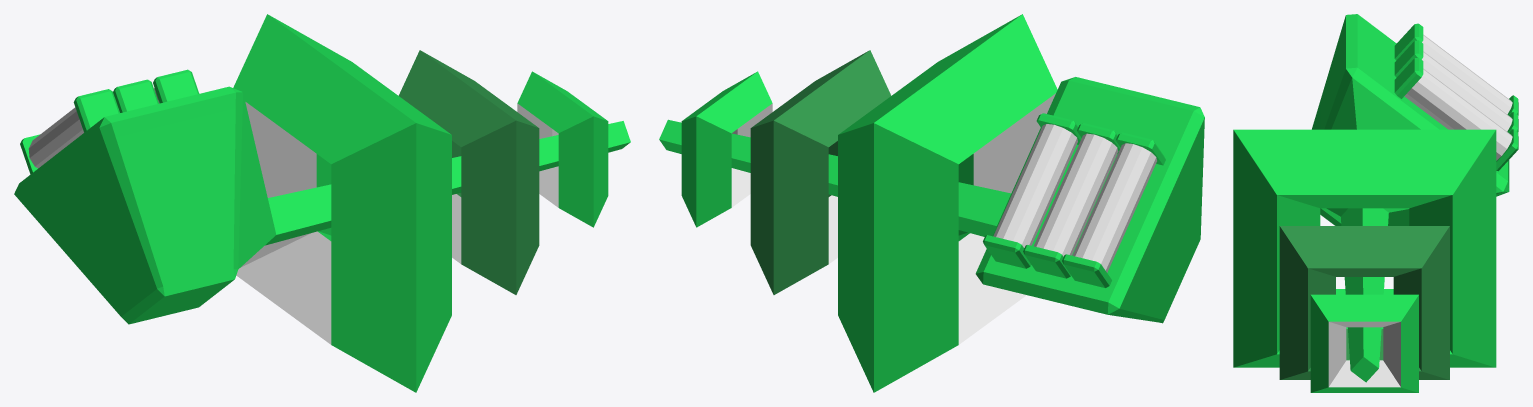
File: LazerGun.fbx
The picture shows the model from 3 angles, left to right: view 1: azimuth 30°, elevation 25°; view 2: azimuth 150°, elevation 25°; view 3: azimuth 270°, elevation 25°; orthographic projection. The views are drawn at different scales.
Parts seen in each view (by area): view 1: Torus.002, Cube, Torus.003, Torus.004; view 2: Torus.002, Cube, Torus.003, Torus.004; view 3: Torus.002, Cube, Torus.003, Torus.004.
Boxes of the visible parts, left/top/right/bottom form: Torus.002: left=233, top=14, right=451, bottom=392; Cube: left=14, top=69, right=630, bottom=324; Torus.003: left=398, top=50, right=539, bottom=294; Torus.004: left=517, top=71, right=608, bottom=227; Torus.002: left=838, top=14, right=1057, bottom=392; Cube: left=659, top=77, right=1204, bottom=323; Torus.003: left=750, top=50, right=891, bottom=294; Torus.004: left=681, top=71, right=772, bottom=227; Torus.002: left=1233, top=129, right=1496, bottom=367; Cube: left=1312, top=14, right=1518, bottom=382; Torus.003: left=1279, top=226, right=1449, bottom=379; Torus.004: left=1310, top=294, right=1418, bottom=392.
Size of the model in its own units: 189 by 96.49 by 99.74.
